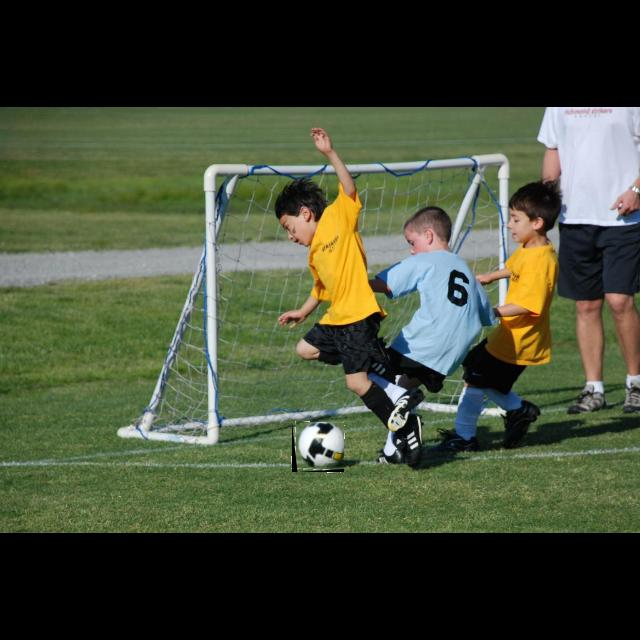Football: (292, 422, 344, 472)
